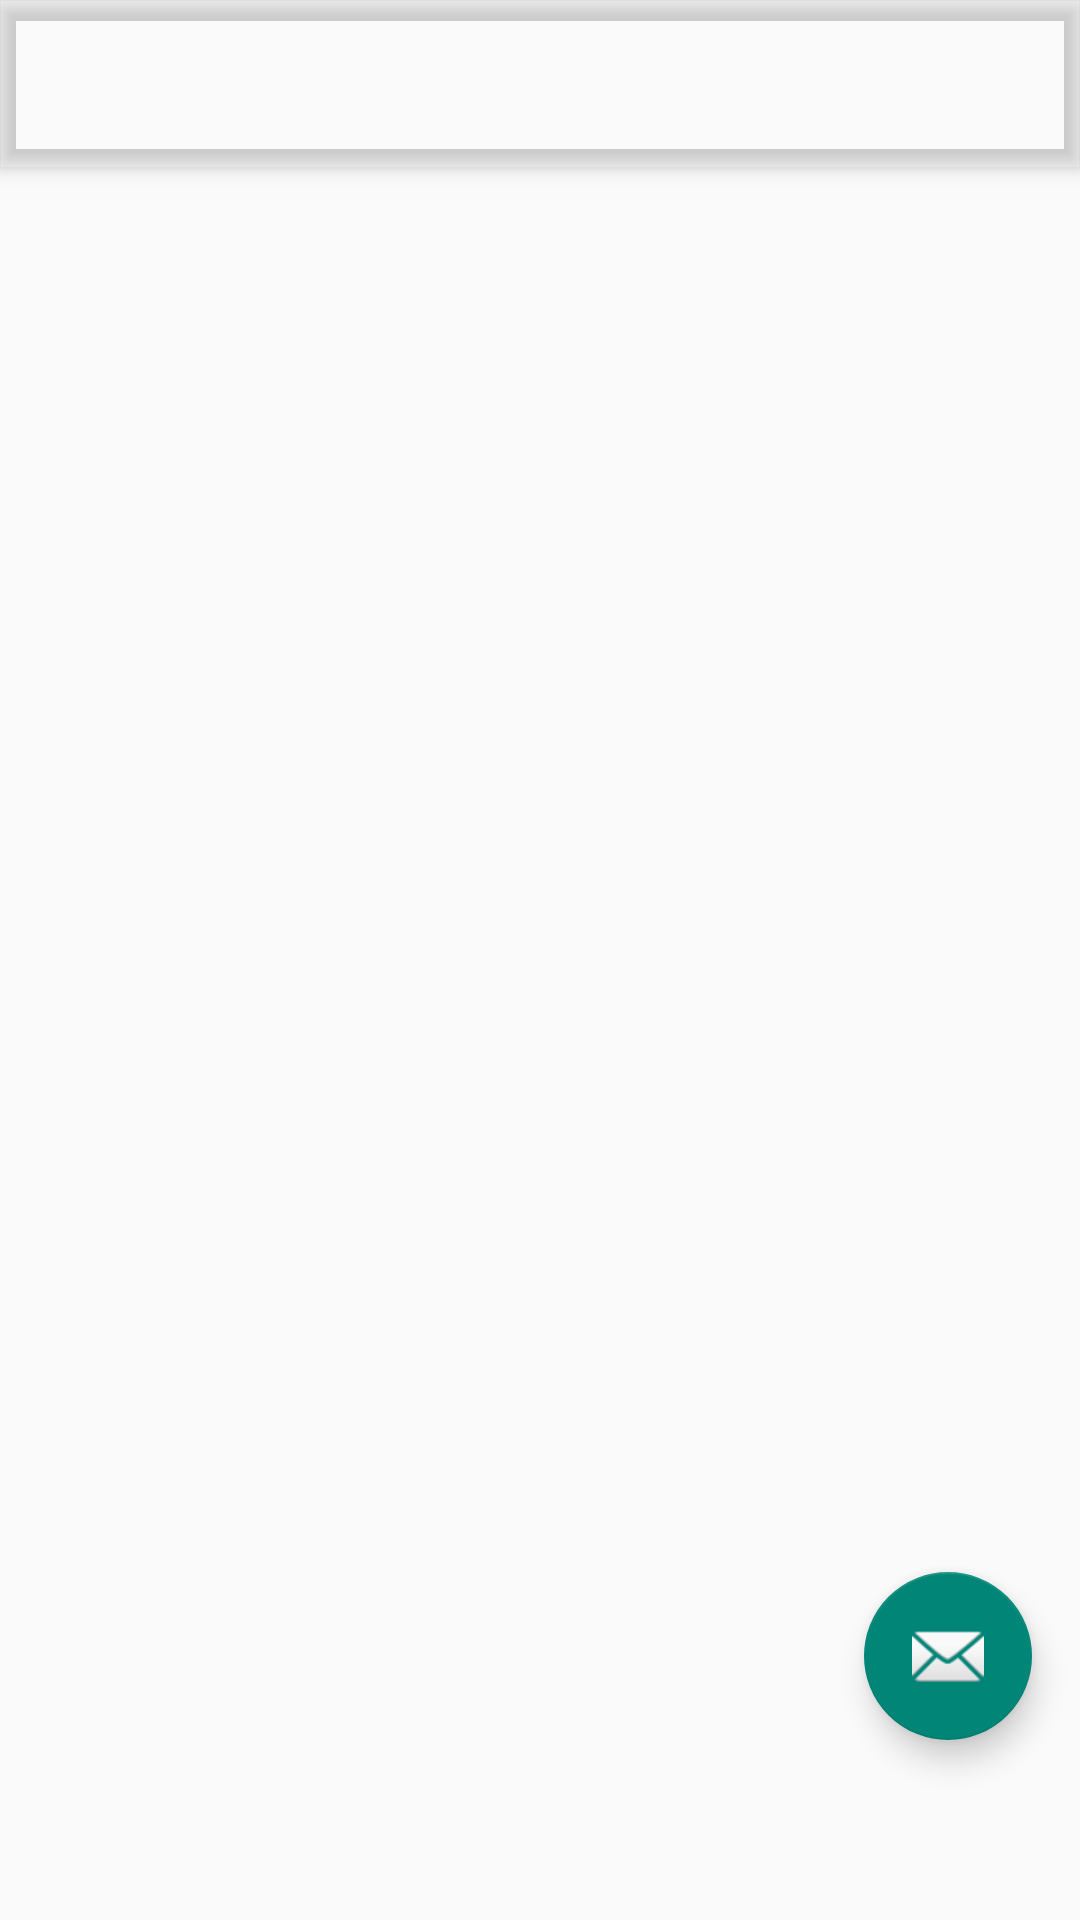

Named icons in this screenshot (1080 × 1920) and their centers, (x=x, y=y):
email: (x=948, y=1656)
